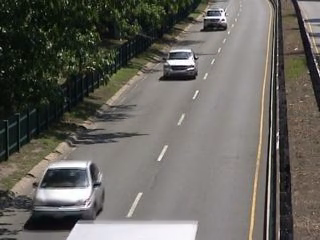car: (29, 158, 106, 225), (161, 46, 201, 84), (202, 7, 230, 34)
